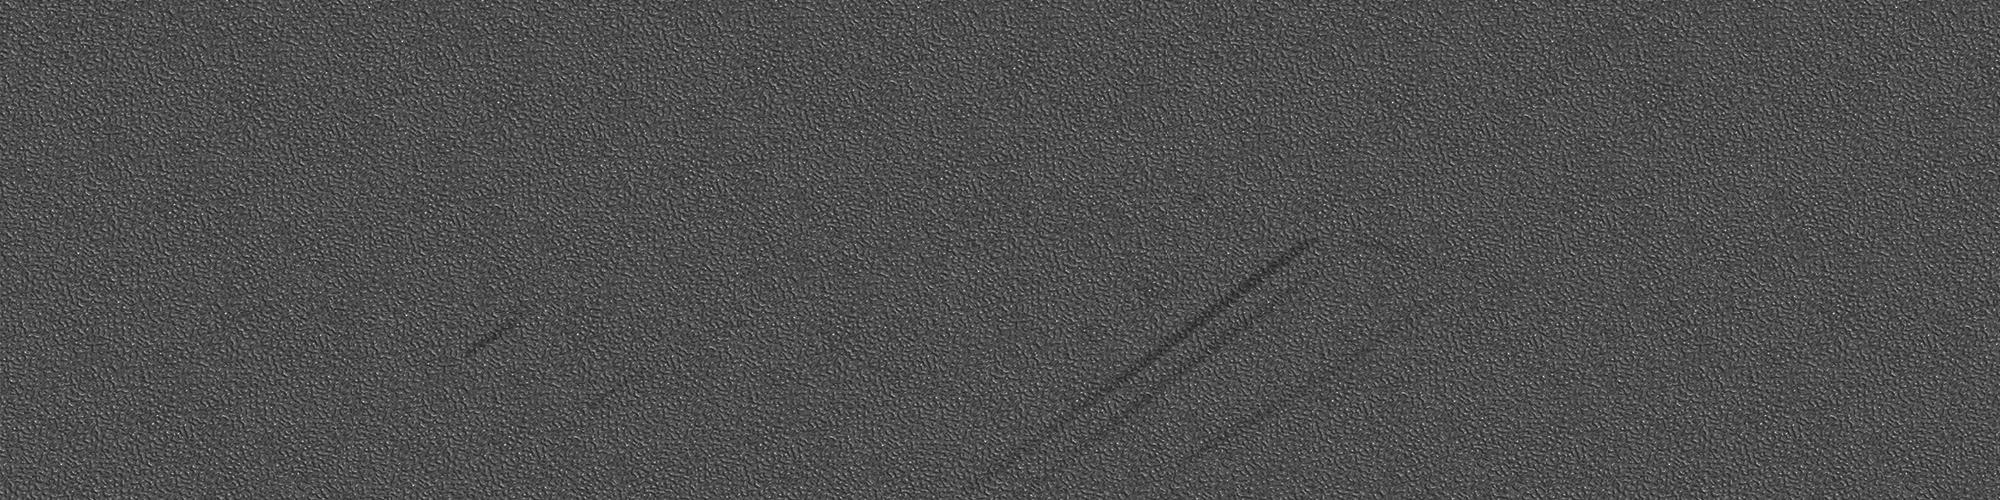Scratches: (948, 224, 1472, 497), (458, 306, 536, 366), (673, 446, 740, 500), (585, 375, 645, 418)
